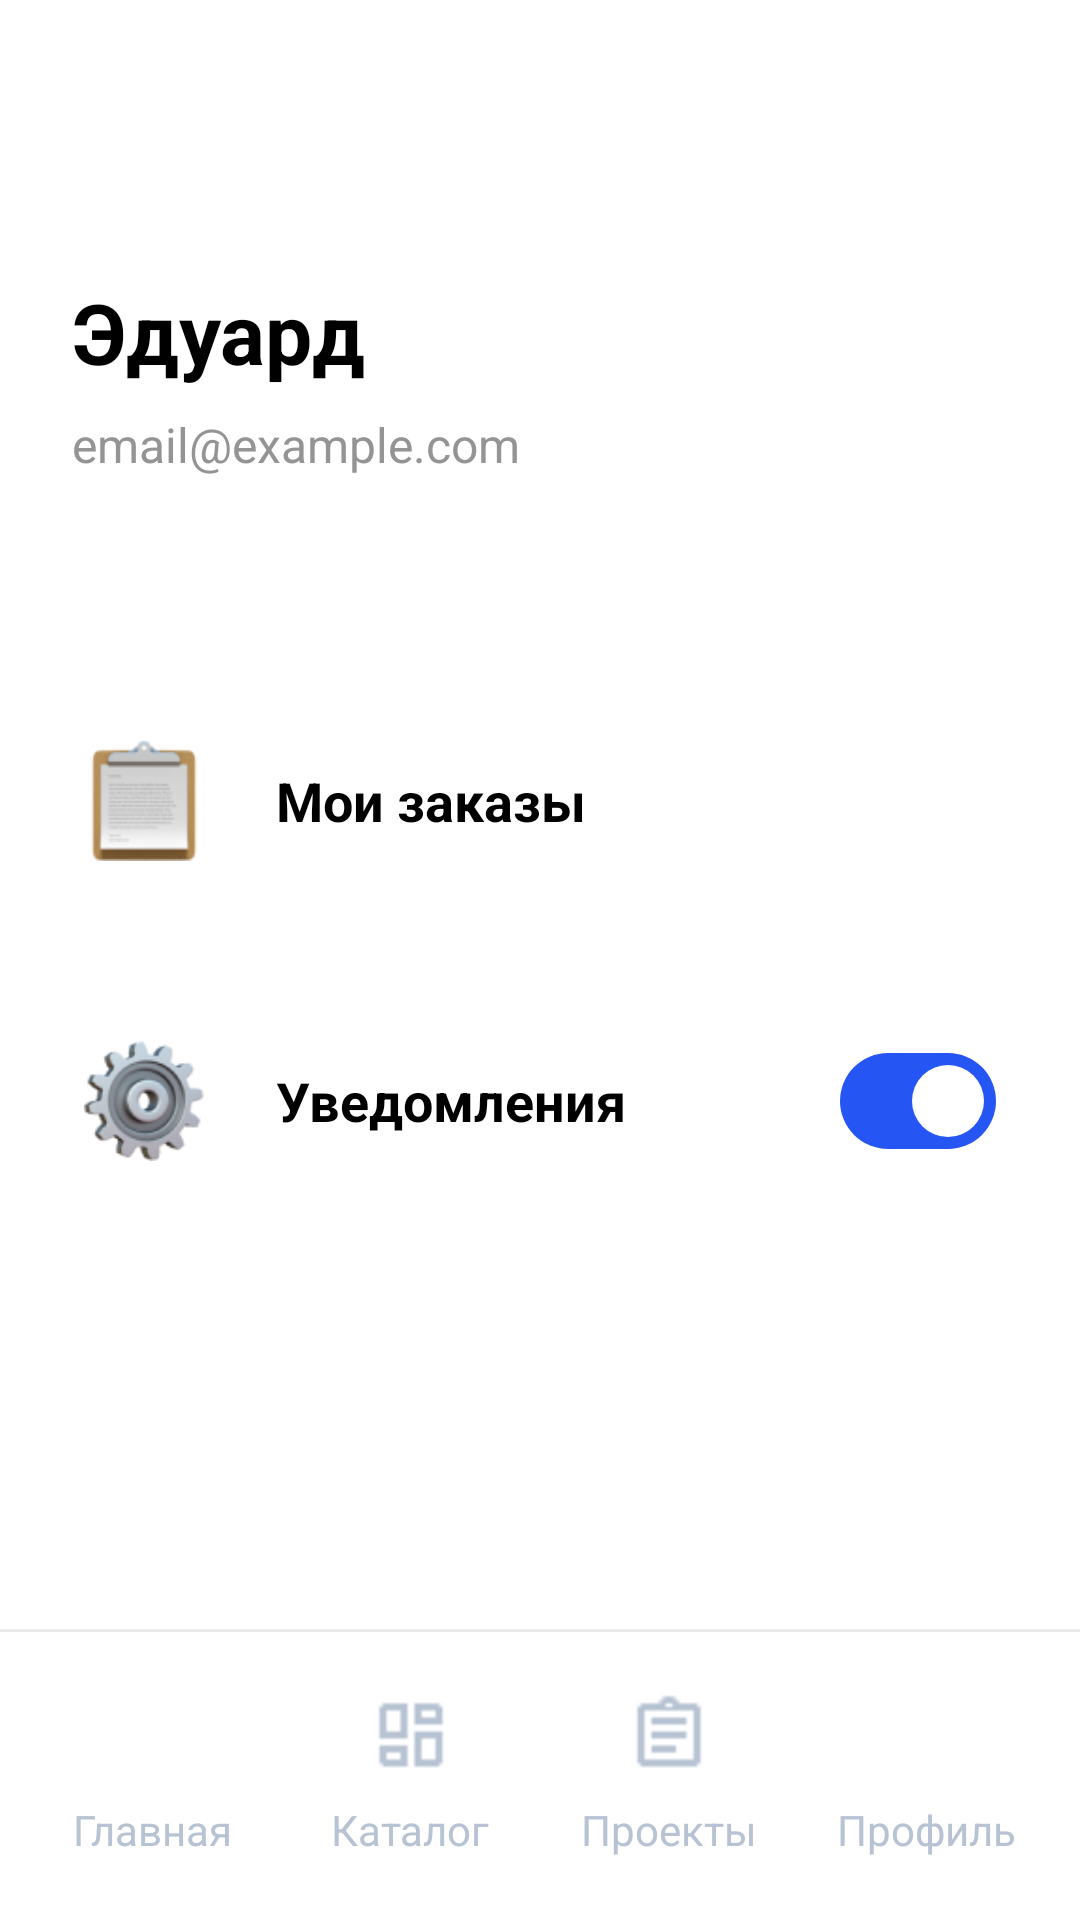

Point at icon controls on the screen. Image size 1080×1920, points as (x=x, y=y).
catalog page: (x=411, y=1735)
profile settings: (x=144, y=1101)
projects page: (x=669, y=1731)
